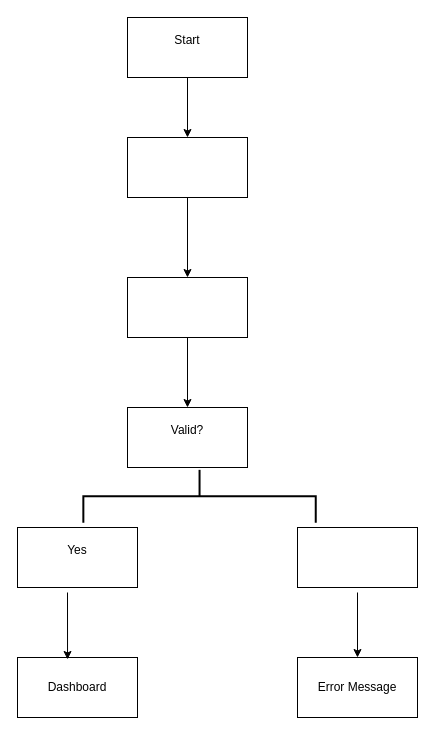
The diagram is 435 pixels wide and 735 high, and some of its shapes have lost their labels. Each missing label, with the box of its shape:
Enter Email & Password: (126, 136, 248, 198)
No: (296, 526, 418, 588)
Validate Credentials: (126, 276, 248, 338)
